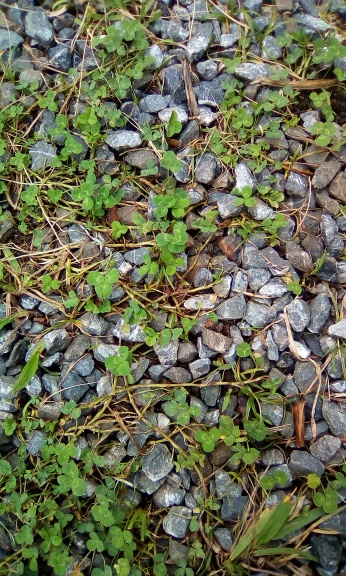4leaf: (156, 223, 188, 254)
